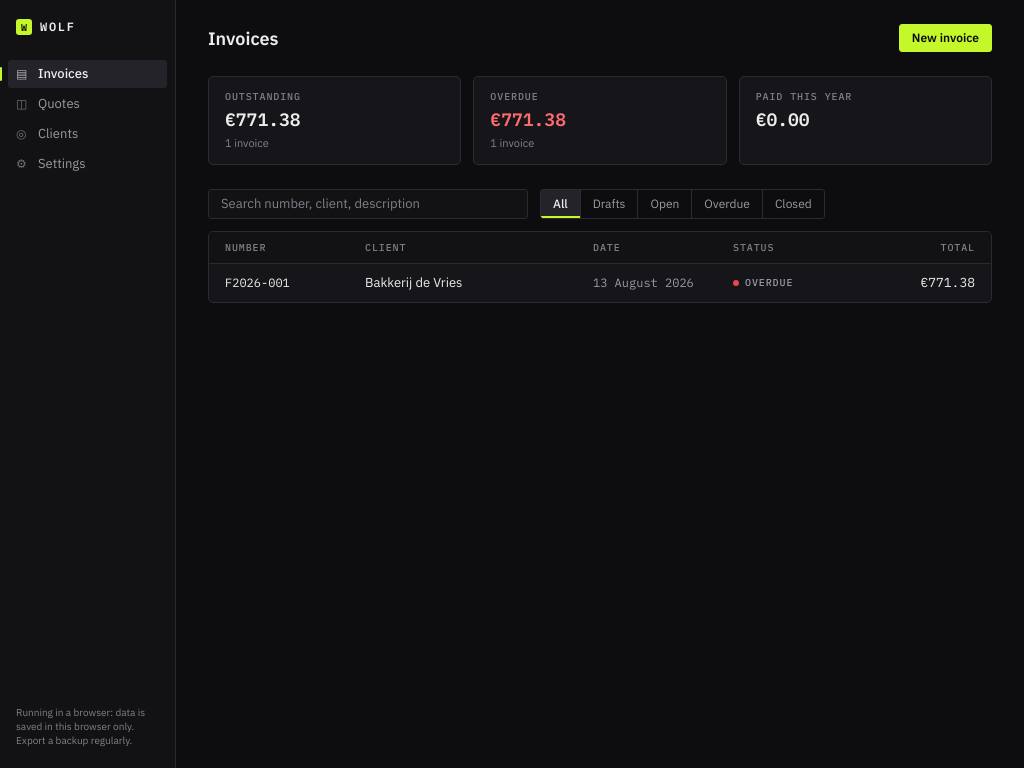
Test: invoice list › shows outstanding totals and filters by search
This screenshot has width=1024, height=768.
Expected: the text "Outstanding" is shown, [225, 90, 301, 103]
Expected: the text "€771.38" below "Outstanding" is shown, [225, 108, 301, 131]
Type "nothing like this" into the search field named "Search documents" at {"x": 368, "y": 204}, box [208, 188, 528, 218]
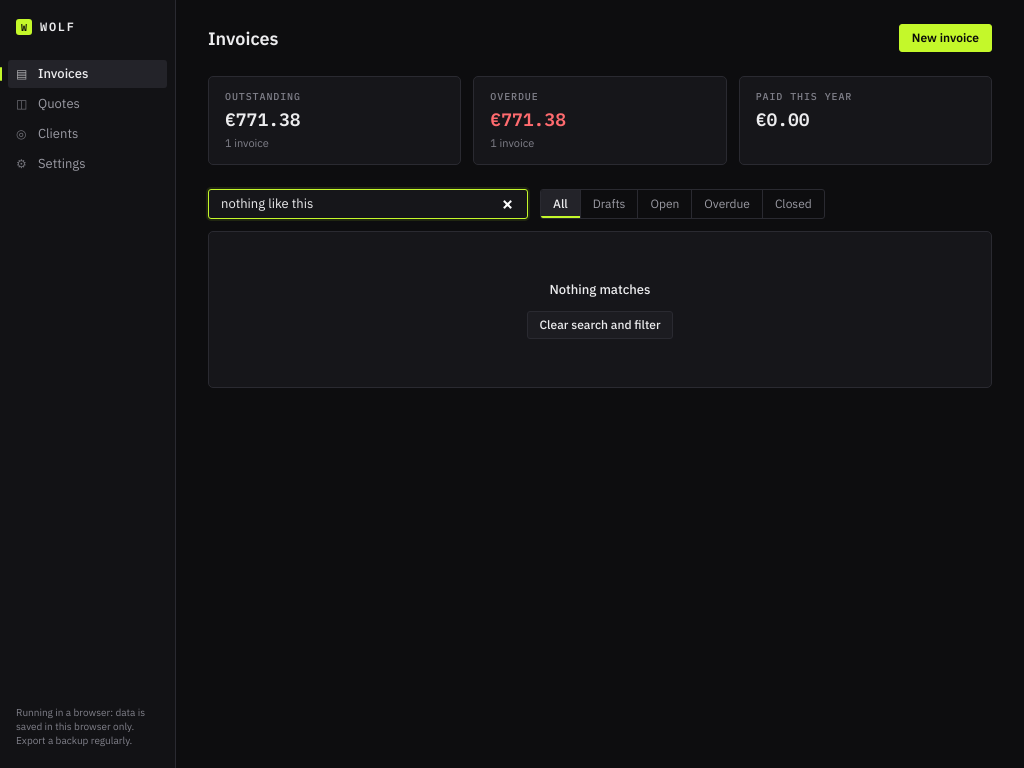
Expected: the text "Nothing matches" is shown, [550, 280, 650, 298]
Click the button "Clear search and filter" at {"x": 600, "y": 325}, box [526, 311, 674, 339]
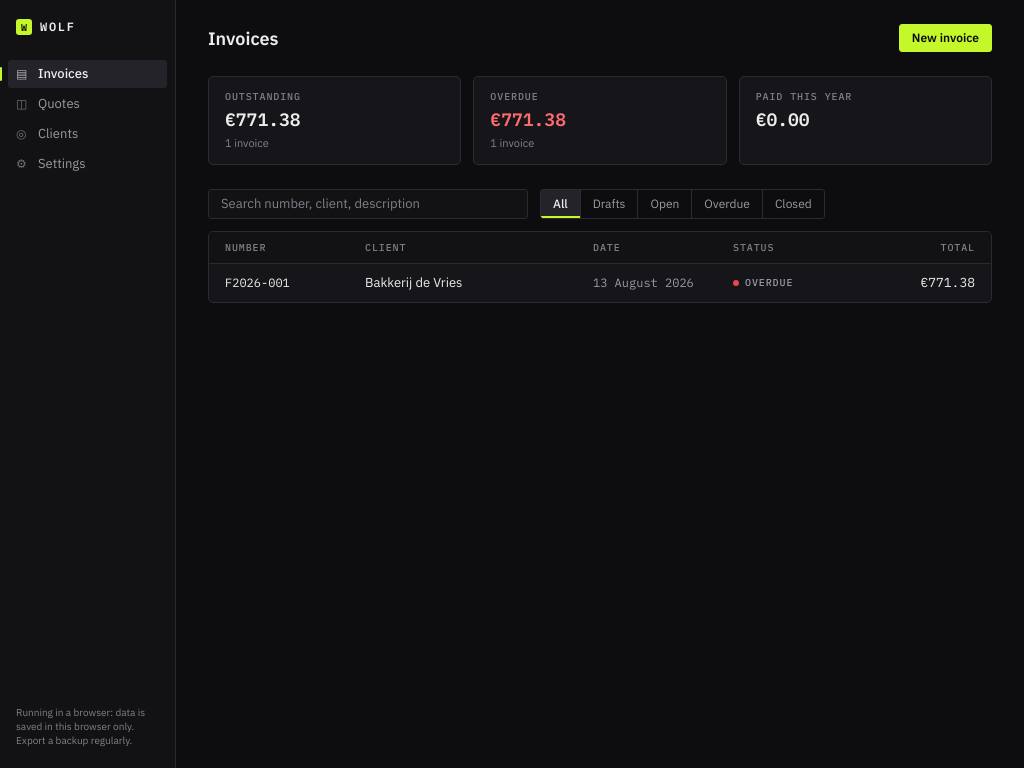
Expected: the button "F2026-001 Bakkerij de Vries 13 August 2026 Overdue €771.38" is shown, [209, 264, 991, 302]
